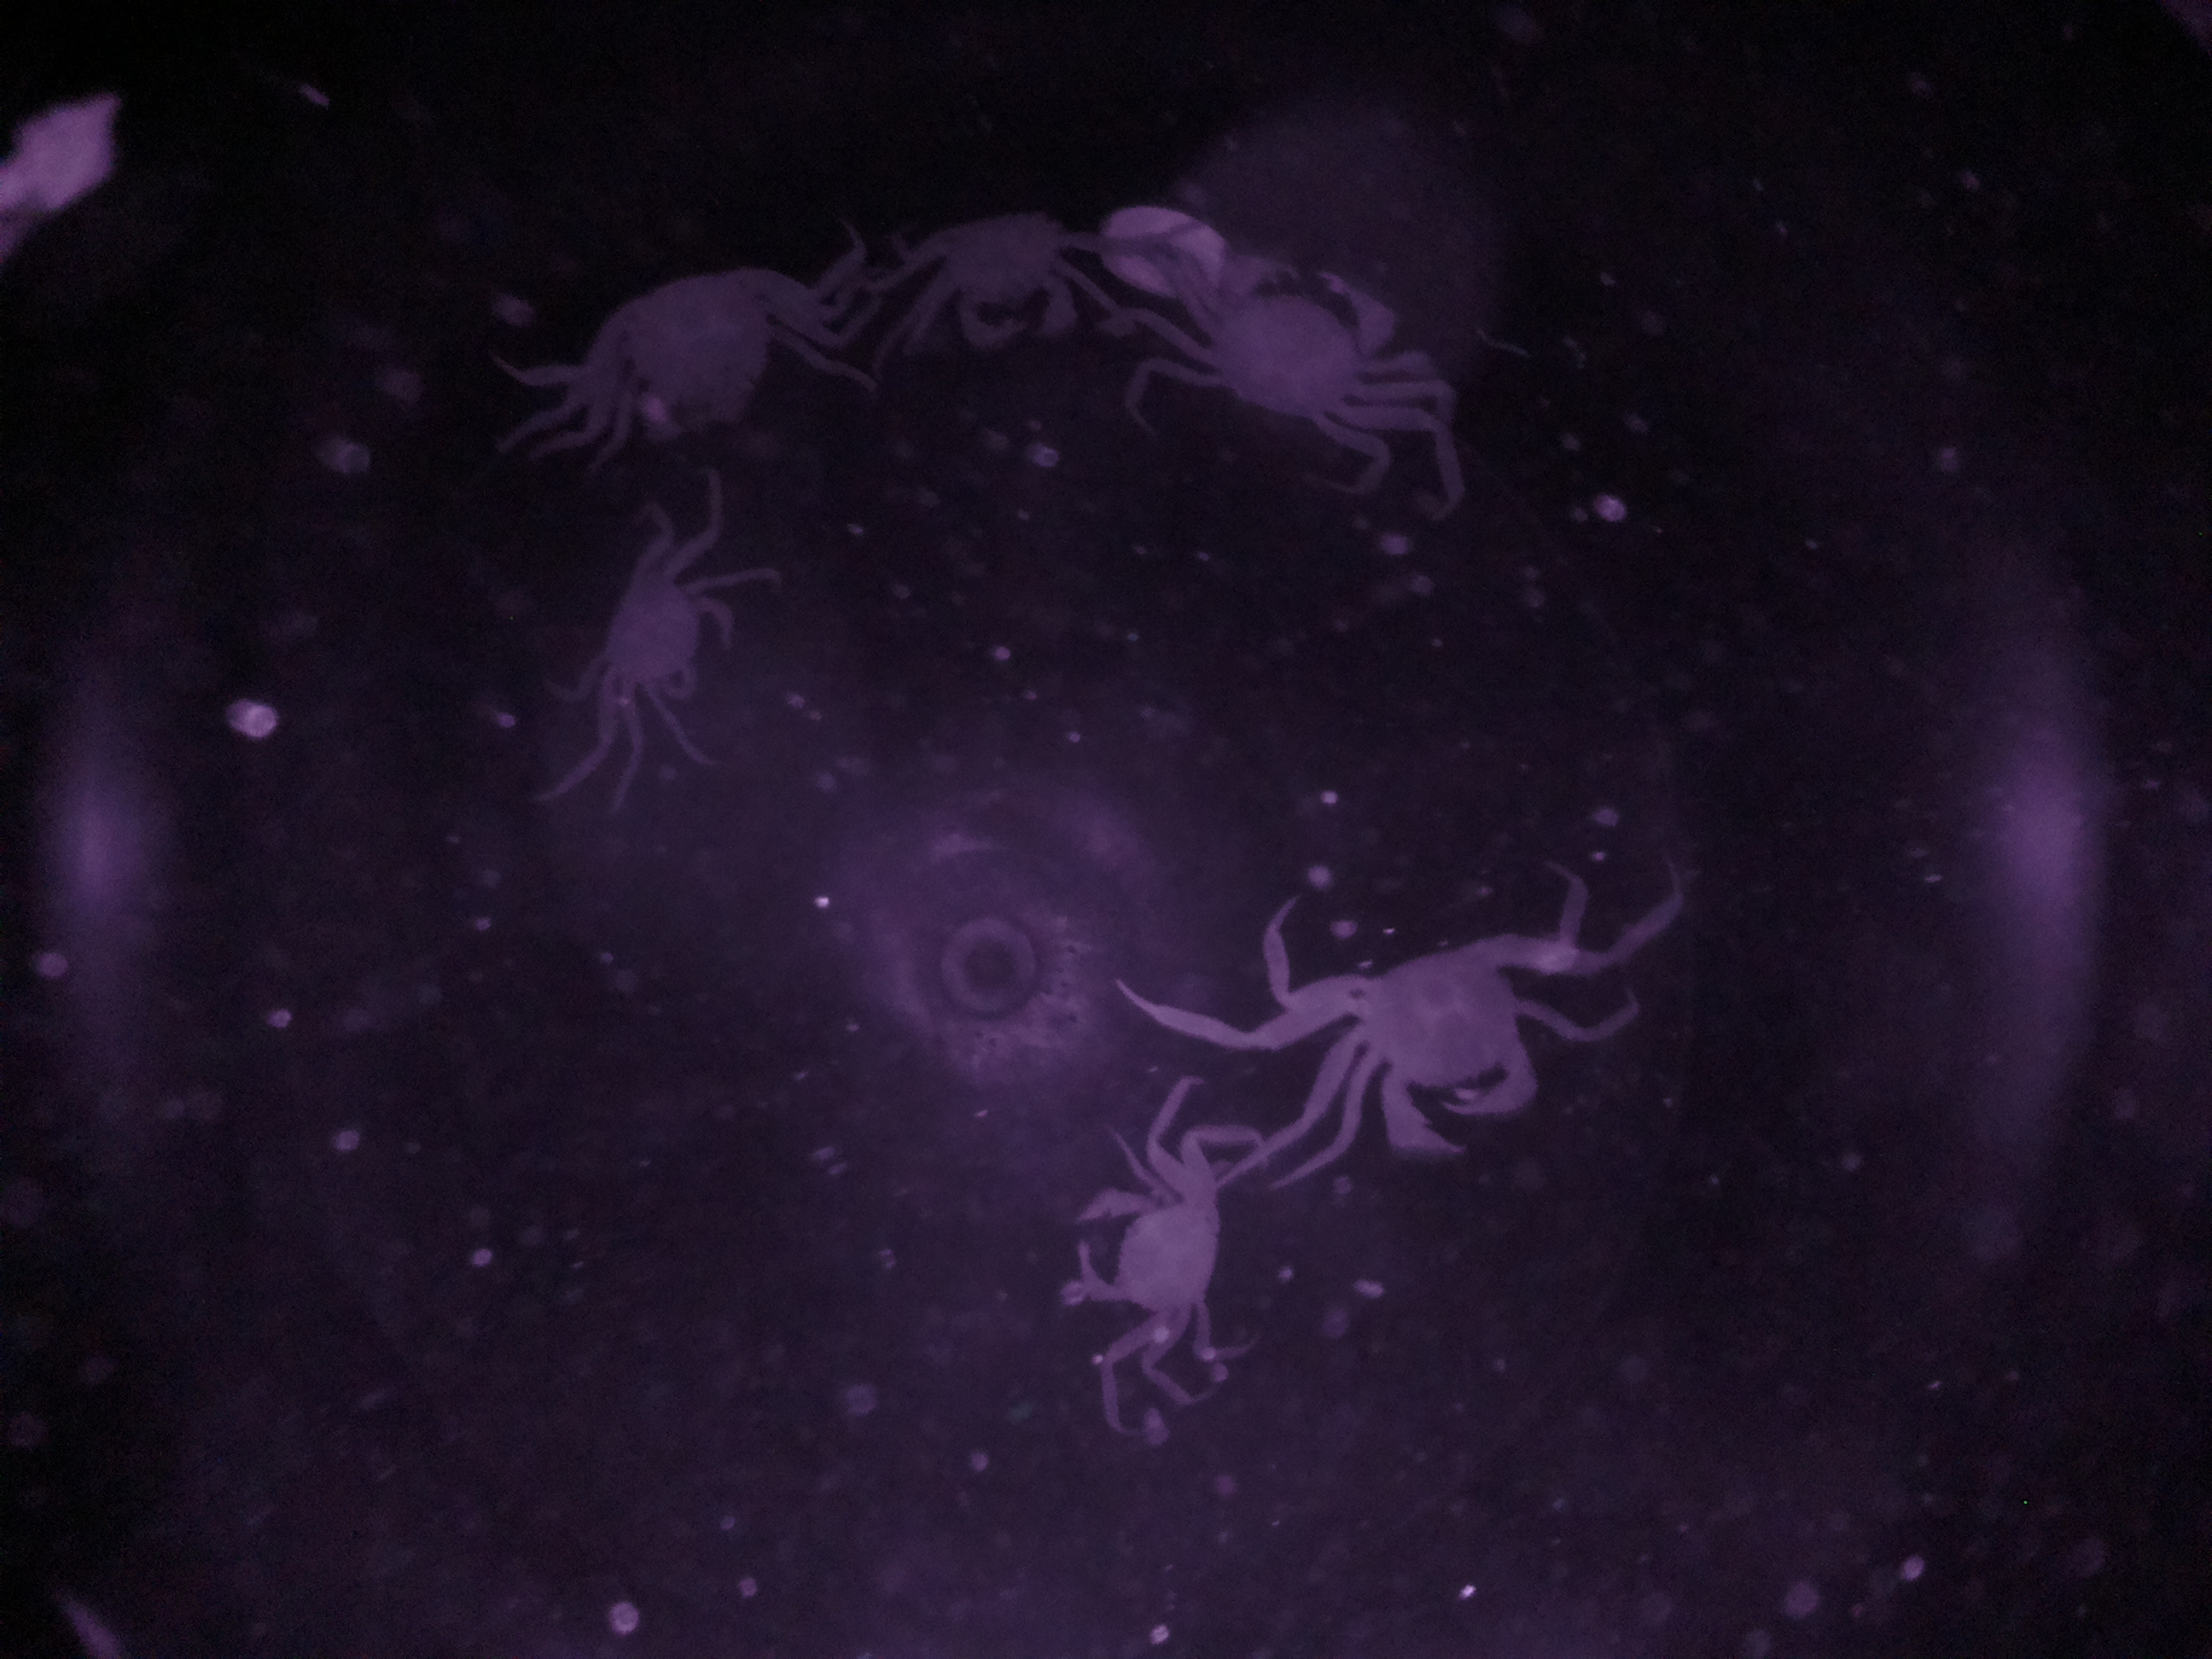Crab: (1261, 894, 1573, 1171), (1162, 244, 1413, 453), (1052, 1121, 1258, 1364), (885, 171, 1097, 368), (580, 523, 763, 748)
